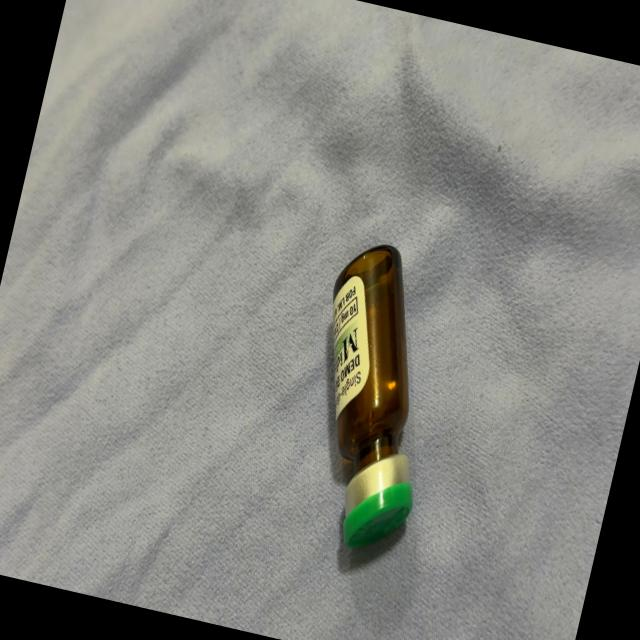midazolm: (280, 240, 465, 555)
